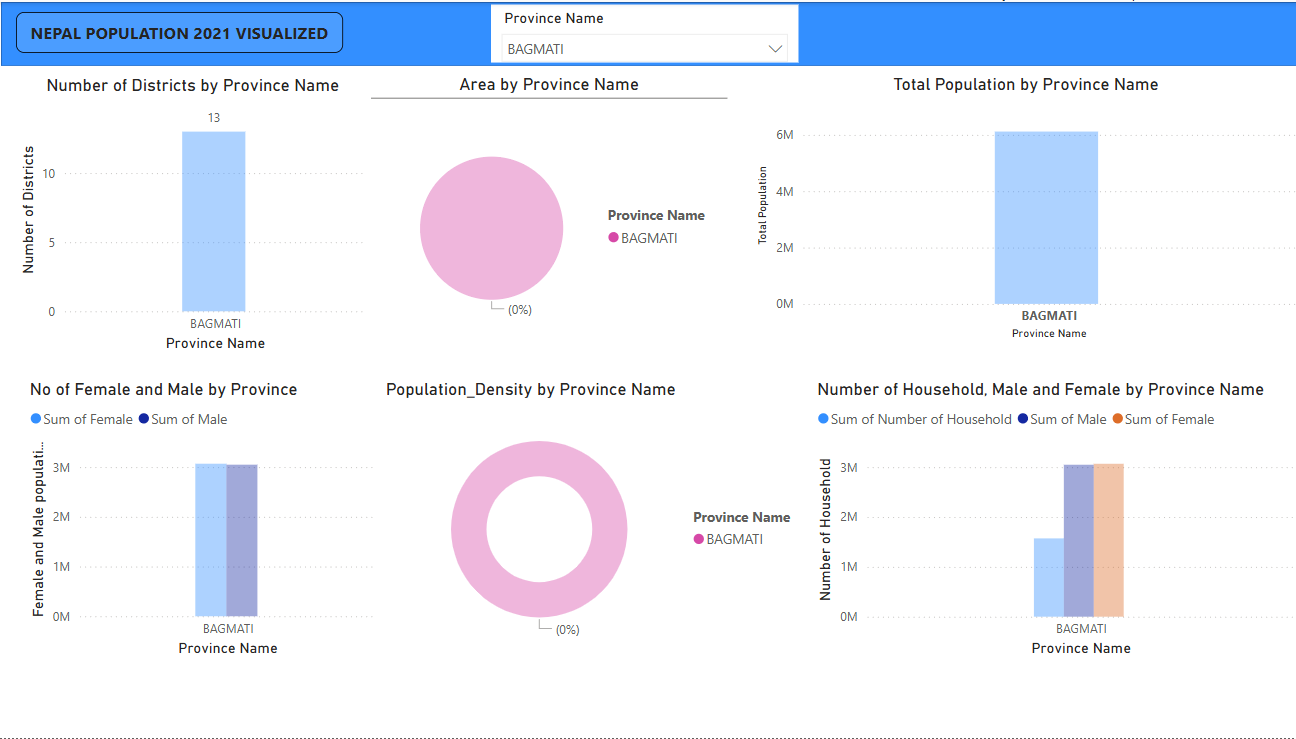

The dashboard page shown, as its layout file describes it:
{"tool":"powerbi","page":{"name":"Page 1","canvas":[1280,720],"ordinal":0},"visuals":[{"type":"shape","box":[10,0,1270,62.8],"z":0},{"type":"textbox","box":[24,10,320,40],"z":1000},{"type":"columnChart","title":"Number of Districts by Province Name","fields":{"Category":["Sheet1 (3).Province Name"],"Y":["Sum(Sheet1 (3).Number of Districts)"]},"box":[23.7,71,348.4,275.7],"z":2000},{"type":"pieChart","title":"Area by Province Name","fields":{"Category":["Sheet1 (3).Province Name"],"Y":["Sum(Sheet1 (3).Area)"]},"box":[372.1,70,348.4,276.6],"z":3000},{"type":"columnChart","title":"Total Population by Province Name","fields":{"Category":["Sheet1 (3).Province Name"],"Y":["Sum(Sheet1 (3).Total Population)"]},"box":[744.2,70,535.8,265.6],"z":4000},{"type":"clusteredColumnChart","title":"No of Female and Male by Province","fields":{"Y":["Sum(Sheet1 (3).Female)","Sum(Sheet1 (3).Male)"],"Category":["Sheet1 (3).Province Name"]},"box":[32.8,367.5,348.4,276.6],"z":5000},{"type":"donutChart","title":"Population_Density by Province Name","fields":{"Y":["Sum(Sheet1 (3).Population_Density)"],"Category":["Sheet1 (3).Province Name"]},"box":[381.2,368.4,422.1,276.6],"z":6000},{"type":"clusteredColumnChart","title":"Number of Household, Male and Female by Province Name","fields":{"Category":["Sheet1 (3).Province Name"],"Y":["Sum(Sheet1 (3).Number of Household)","Sum(Sheet1 (3).Male)","Sum(Sheet1 (3).Female)"]},"box":[803,368,477,277],"z":7000},{"type":"slicer","fields":{"Values":["Sheet1 (3).Province Name"]},"box":[489.2,2.9,300.5,56.4],"z":8000}]}

Visuals, with their boxes in screenshot pixels (x1, y1, x2, y2), scaled from the page's 1280x720 canvas onto the 1296x739 screenshot:
shape: [left=10, top=0, right=1295, bottom=64]
textbox: [left=24, top=10, right=348, bottom=51]
"Number of Districts by Province Name" columnChart: [left=24, top=73, right=377, bottom=356]
"Area by Province Name" pieChart: [left=377, top=72, right=730, bottom=356]
"Total Population by Province Name" columnChart: [left=754, top=72, right=1295, bottom=344]
"No of Female and Male by Province" clusteredColumnChart: [left=33, top=377, right=386, bottom=661]
"Population_Density by Province Name" donutChart: [left=386, top=378, right=813, bottom=662]
"Number of Household, Male and Female by Province Name" clusteredColumnChart: [left=813, top=378, right=1295, bottom=662]
slicer - Sheet1 (3).Province Name: [left=495, top=3, right=800, bottom=61]
